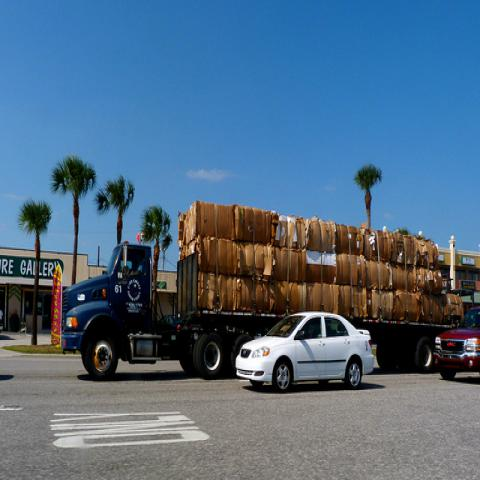car: (236, 312, 376, 395), (437, 306, 479, 374)
truck: (61, 202, 463, 382)
